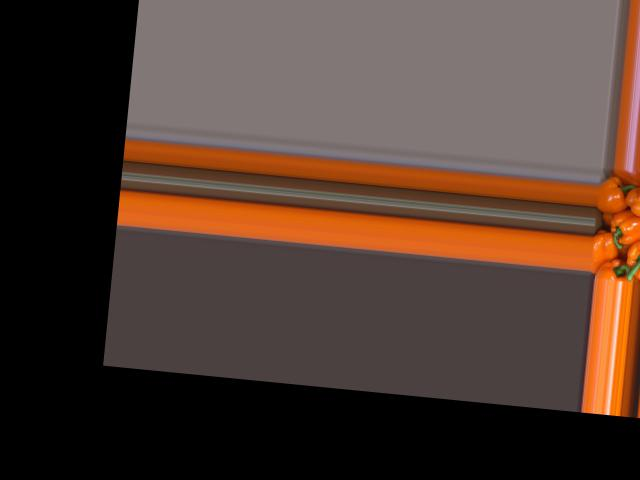bell_pepper: (608, 167, 640, 196)
